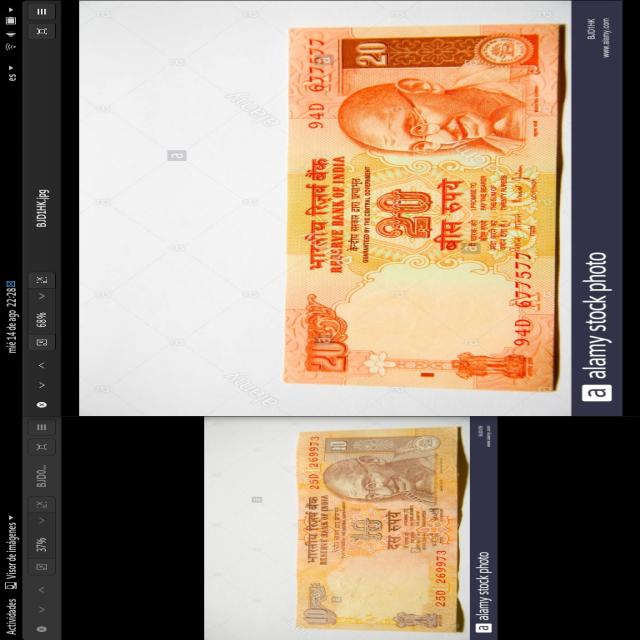20IndianRupees: (284, 26, 558, 391)
